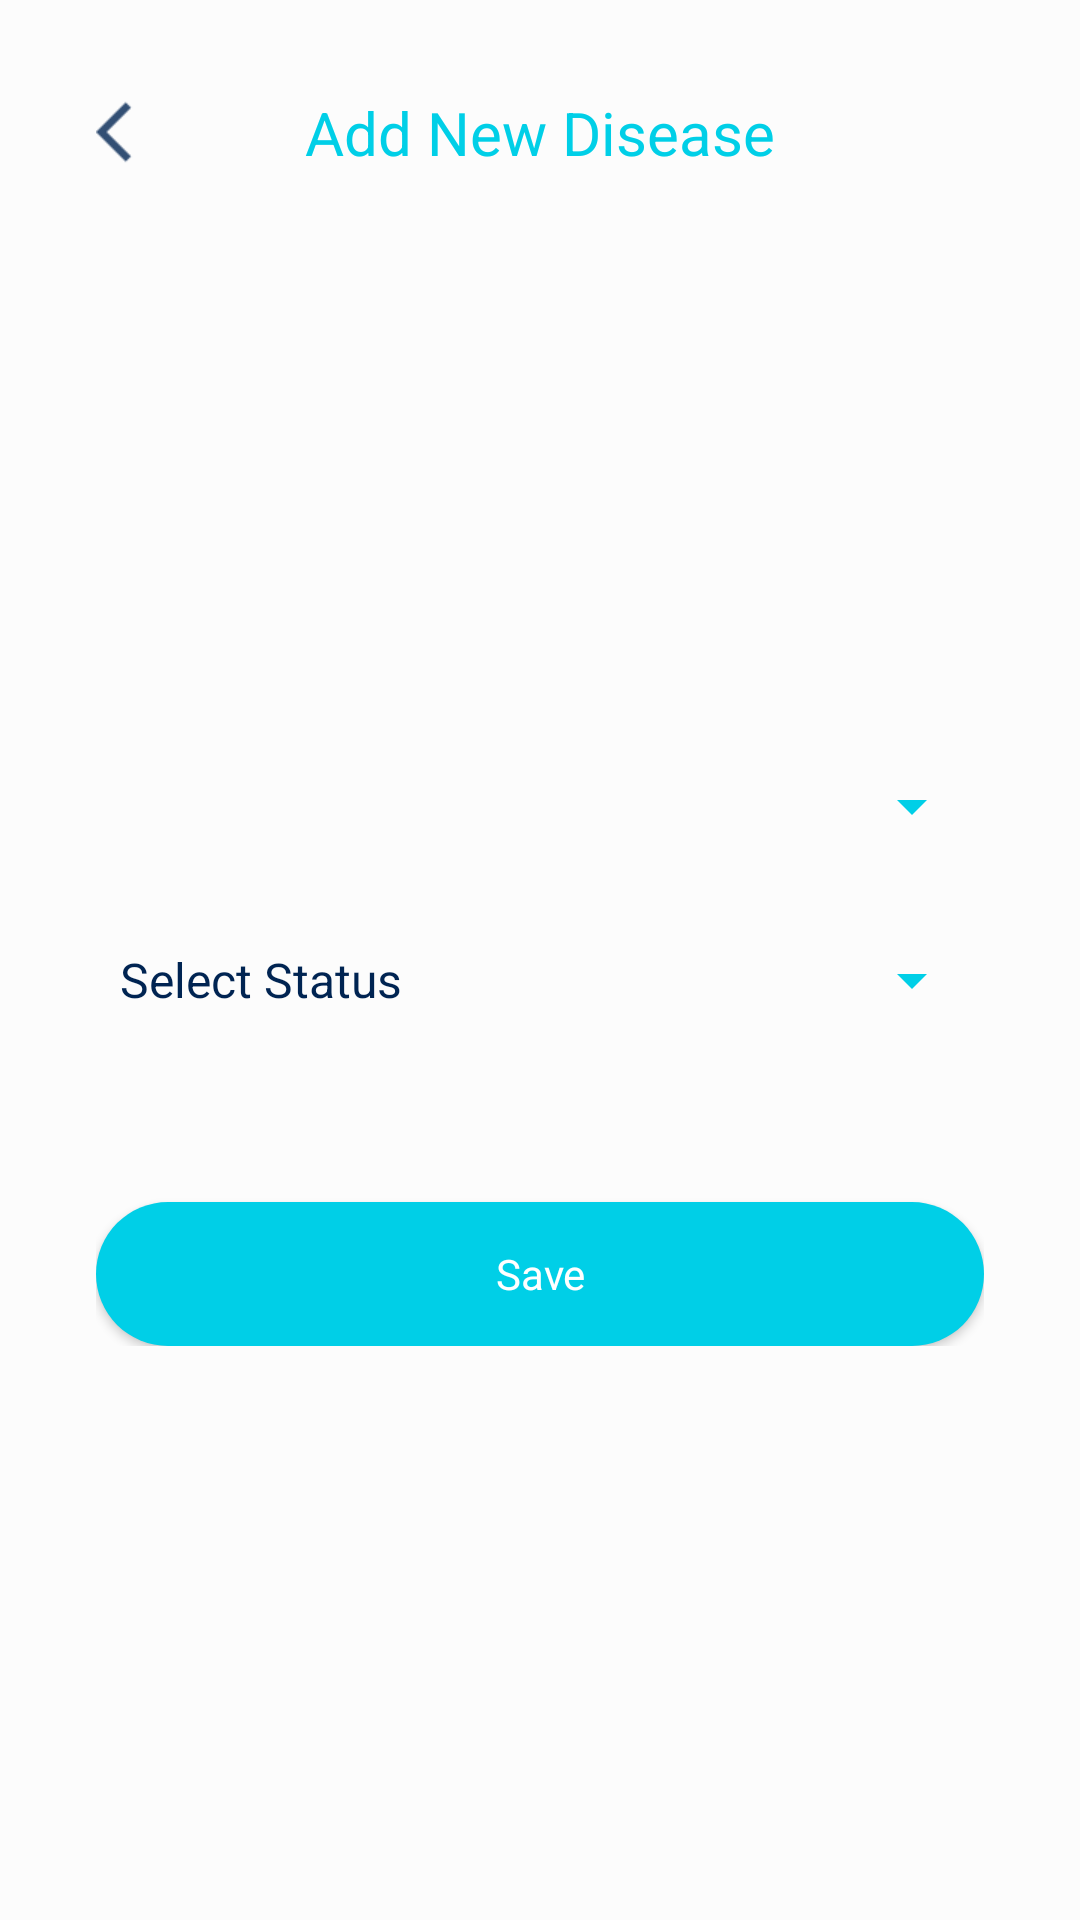

Screen size 1080px×1920px. Icon name, then its box in pixels as box(x1, y1, x2, y2):
back: box(96, 102, 131, 162)
